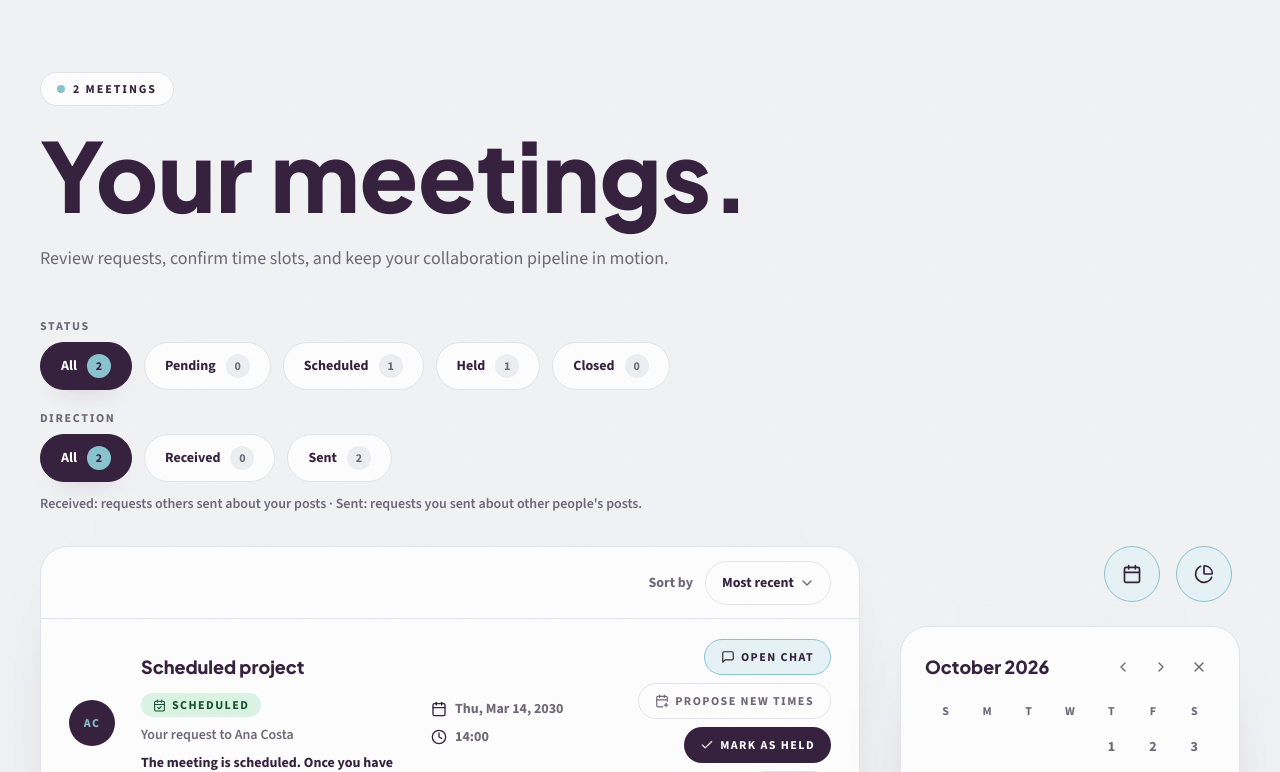
Test: MeetingsPage › names the status tabs after the statuses and gives held meetings a tab of their own
This screenshot has width=1280, height=772.
Click the button "Held 1".
click(488, 366)  # box [436,342,540,390]
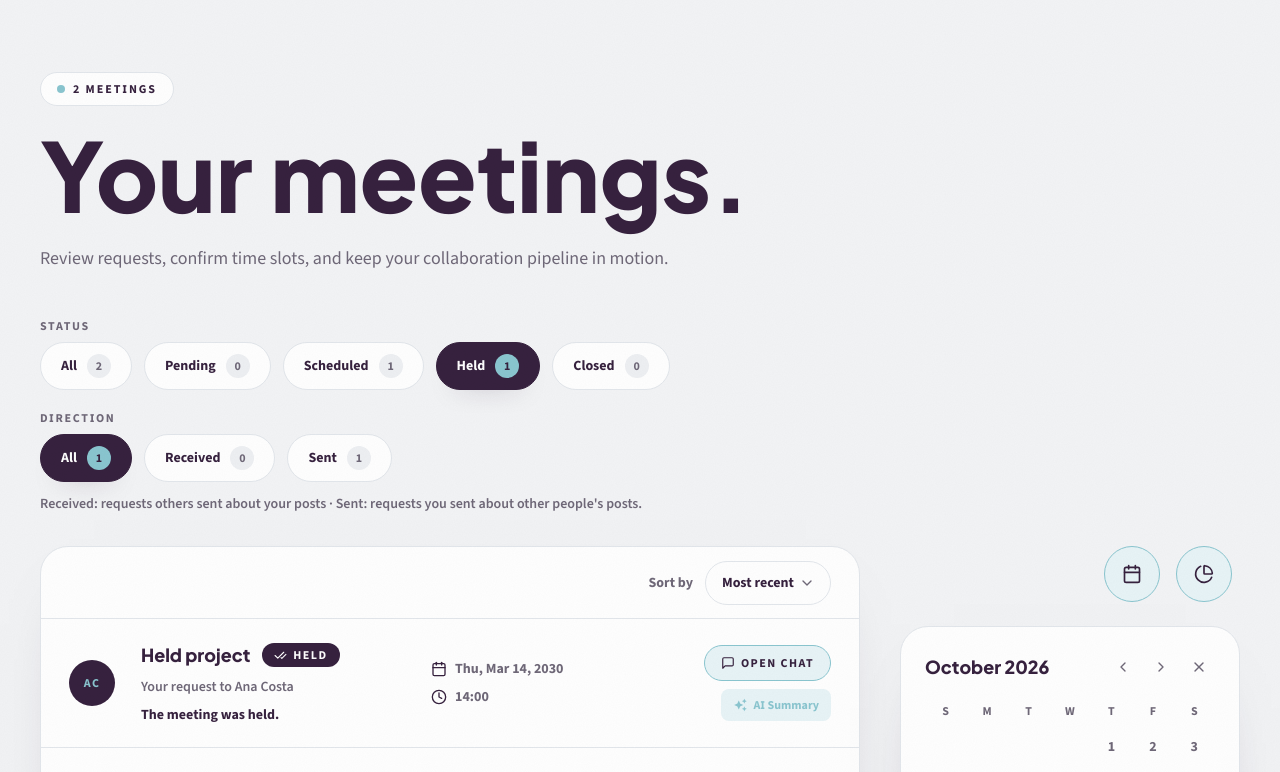
Expected: the link "Held project" is shown, [141,643,250,666]
Expected: the link "Scheduled project" is gone
Click the button "Scheduled 1".
click(353, 366)  # box [283,342,424,390]
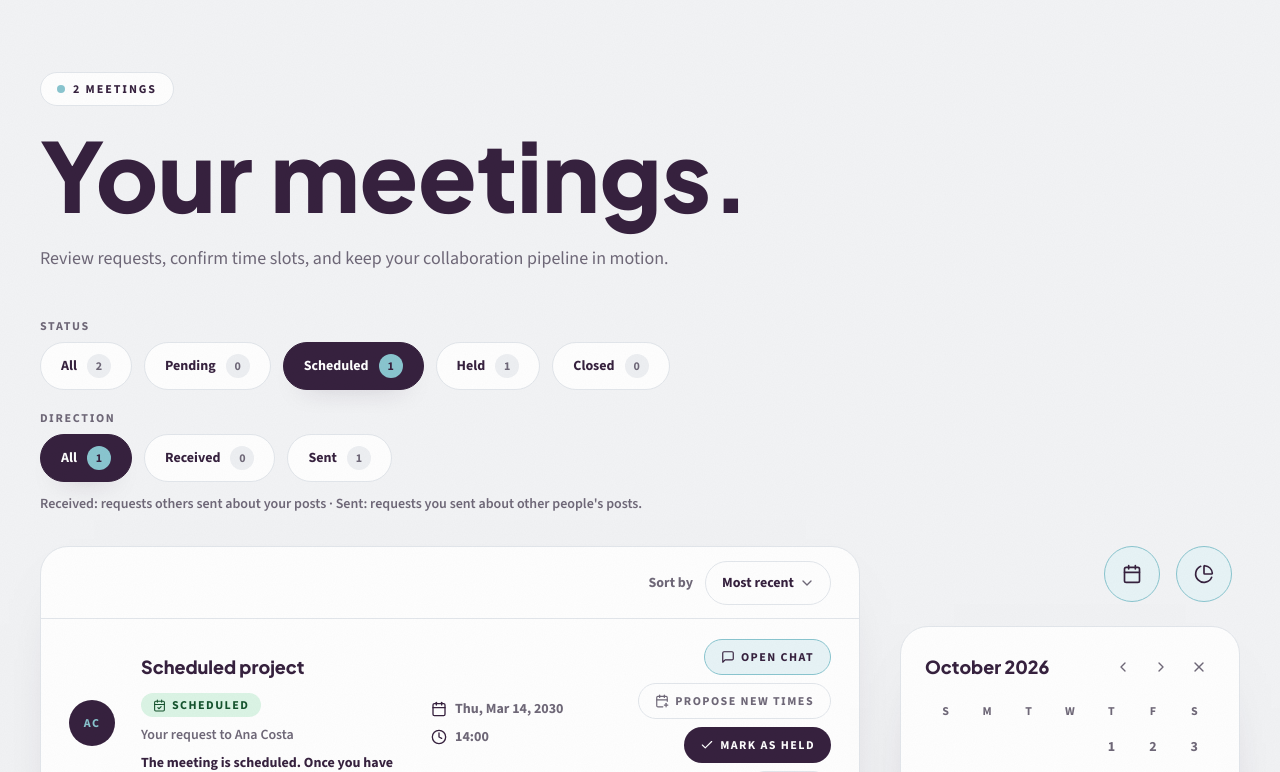
Expected: the link "Scheduled project" is shown, [141,655,304,678]
Expected: the link "Held project" is gone
